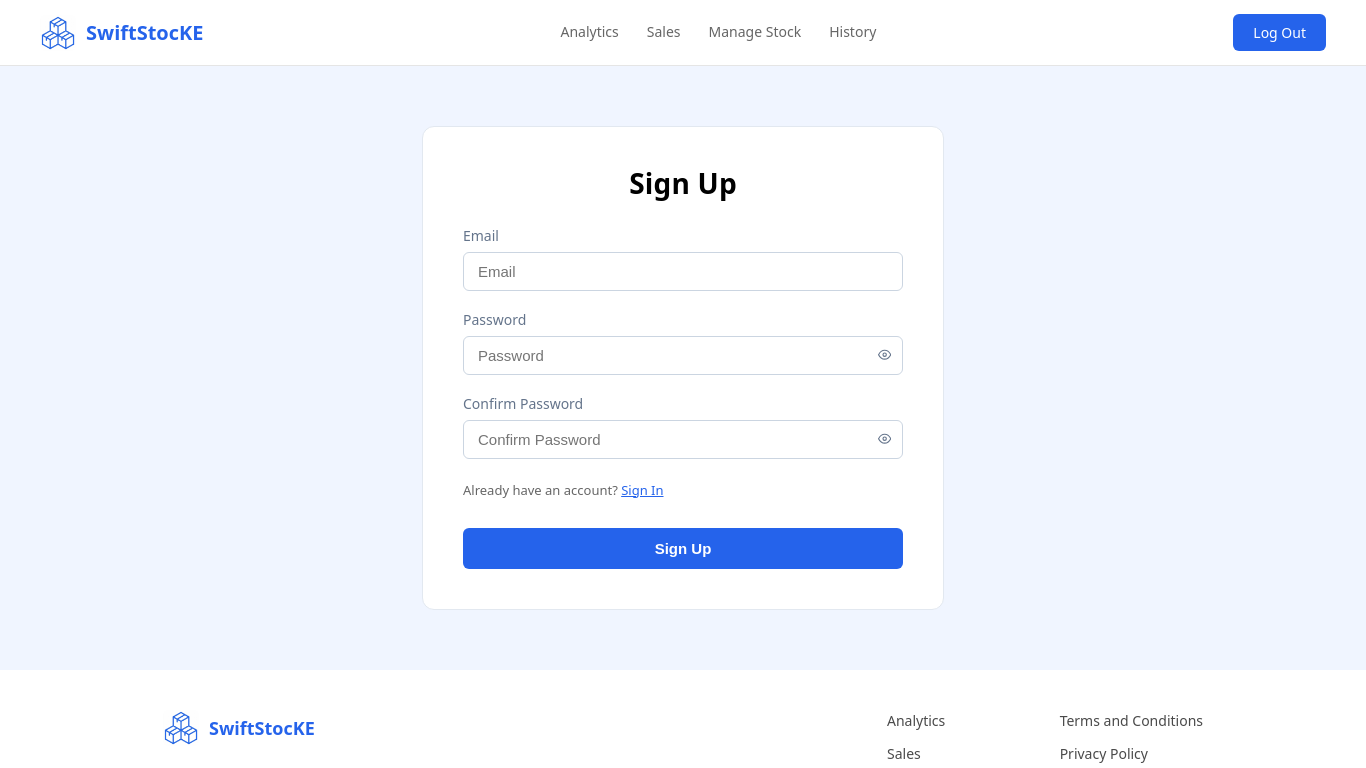
Test case: Sign Up Page › handles form submission successfully and navigates to VerifyOTP
Type "test@example.com" into the field with test id "email-input".
click(683, 271); type("test@example.com")  # box [463, 252, 903, 291]
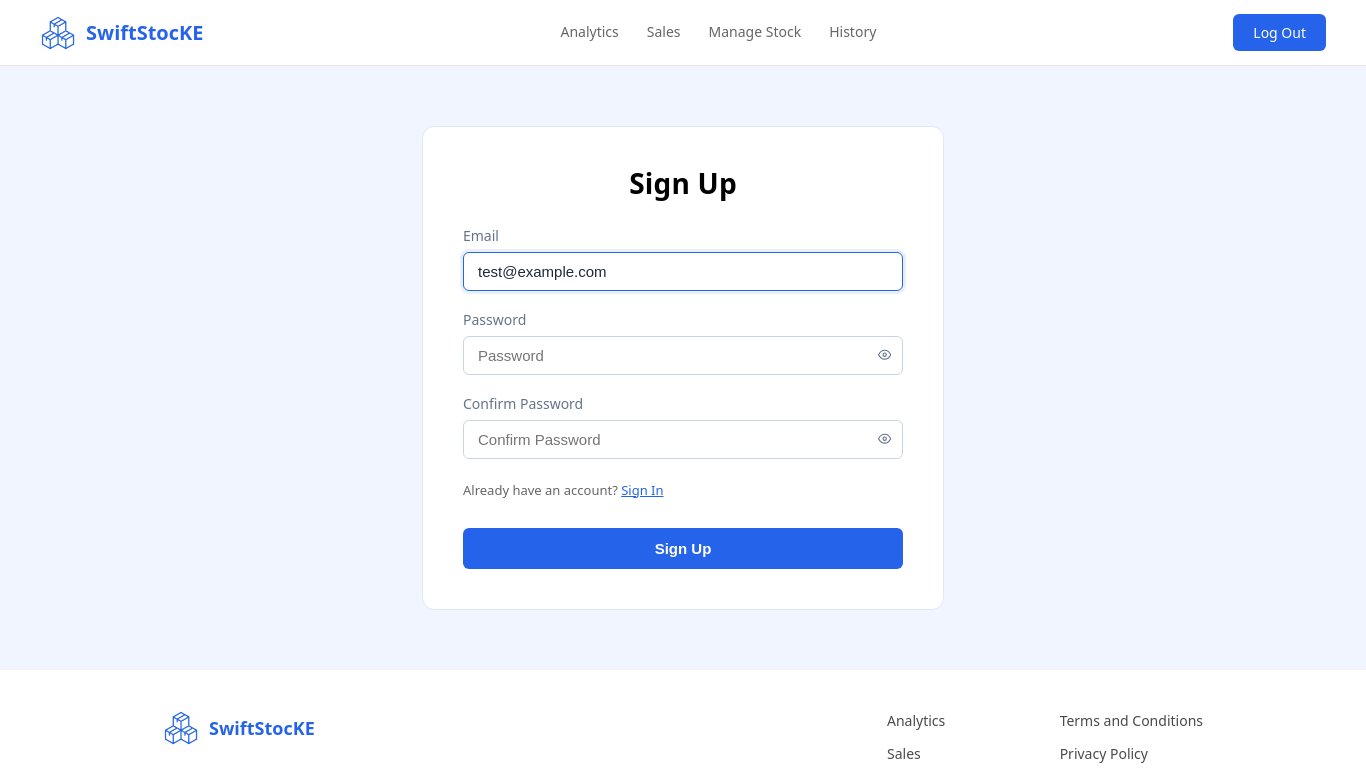
Type "password123" into the password field with test id "password-input".
click(683, 355); type("password123")  # box [463, 336, 903, 375]
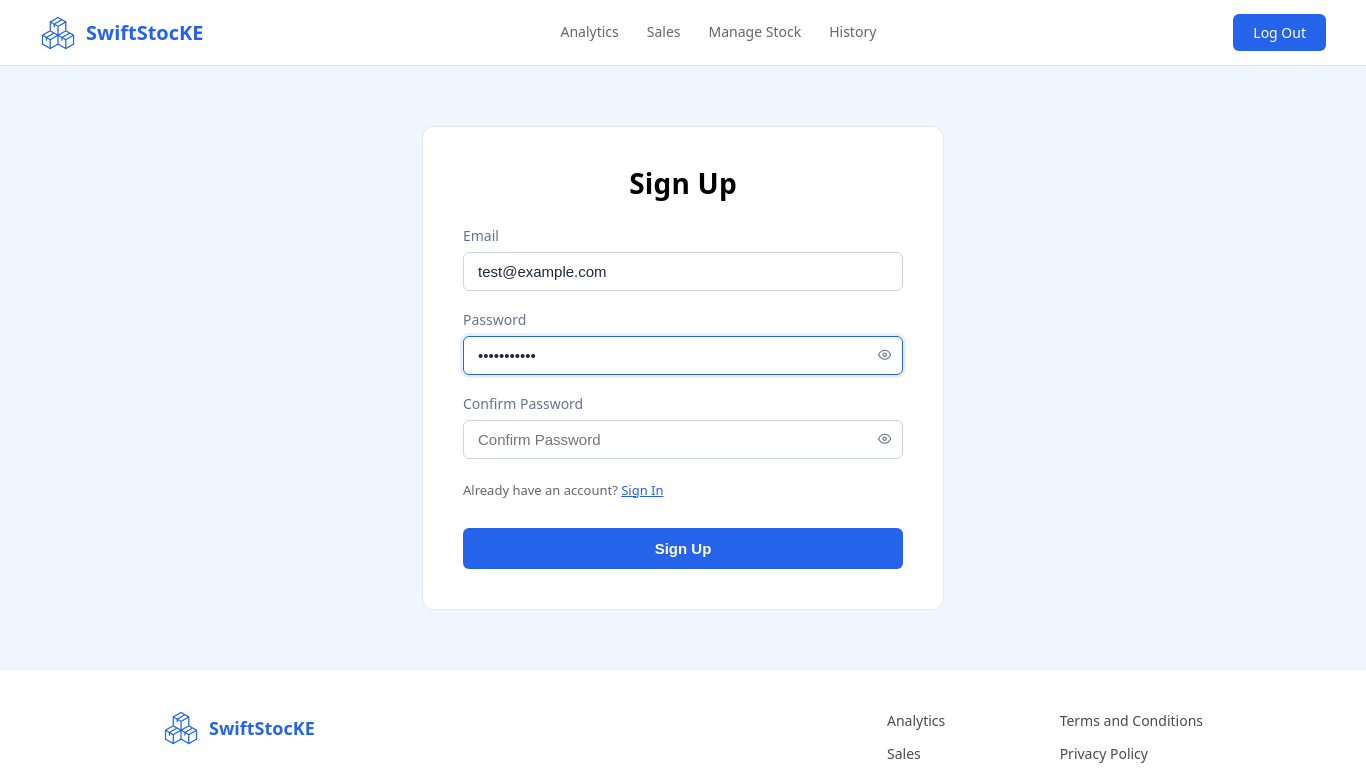
Type "password123" into the password field with test id "confirm-password-input".
click(683, 439); type("password123")  # box [463, 420, 903, 459]
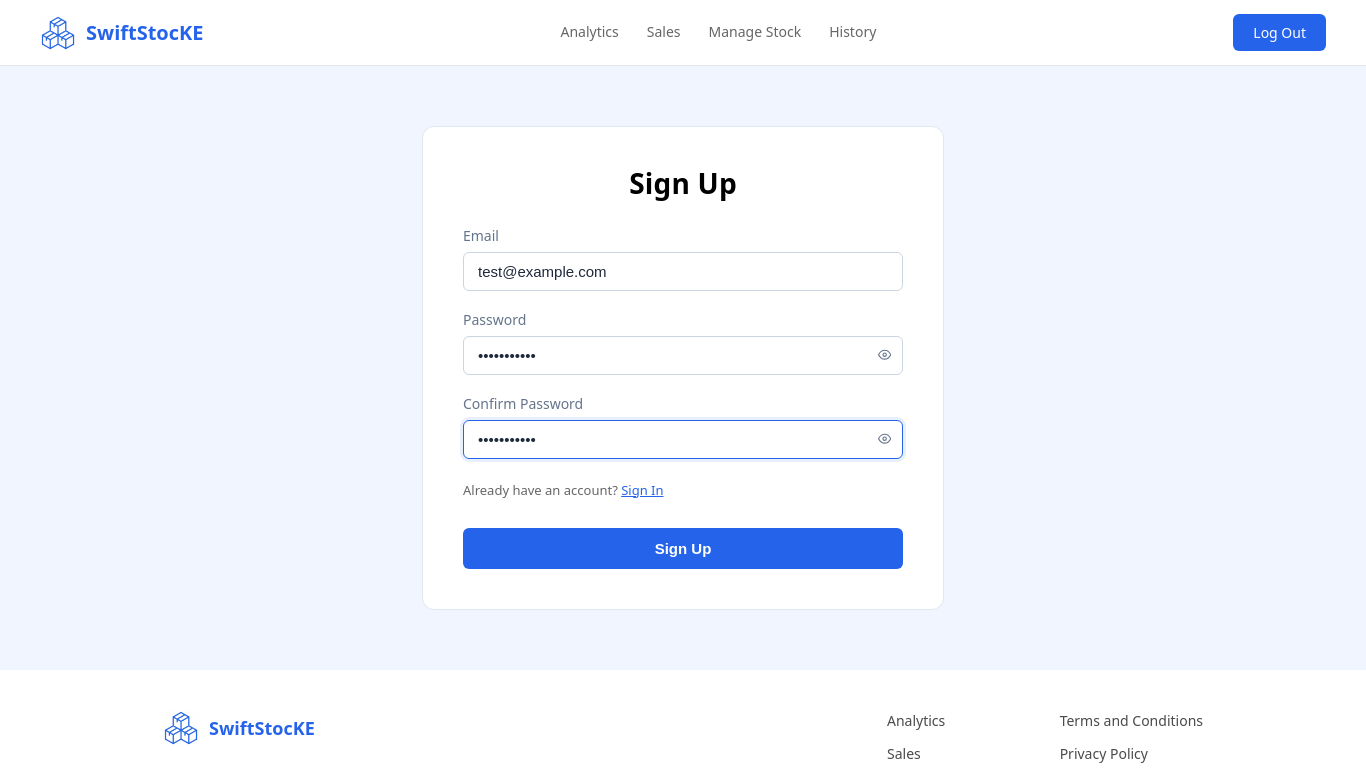
Click the button with test id "signup-btn".
click(683, 549)  # box [463, 528, 903, 569]
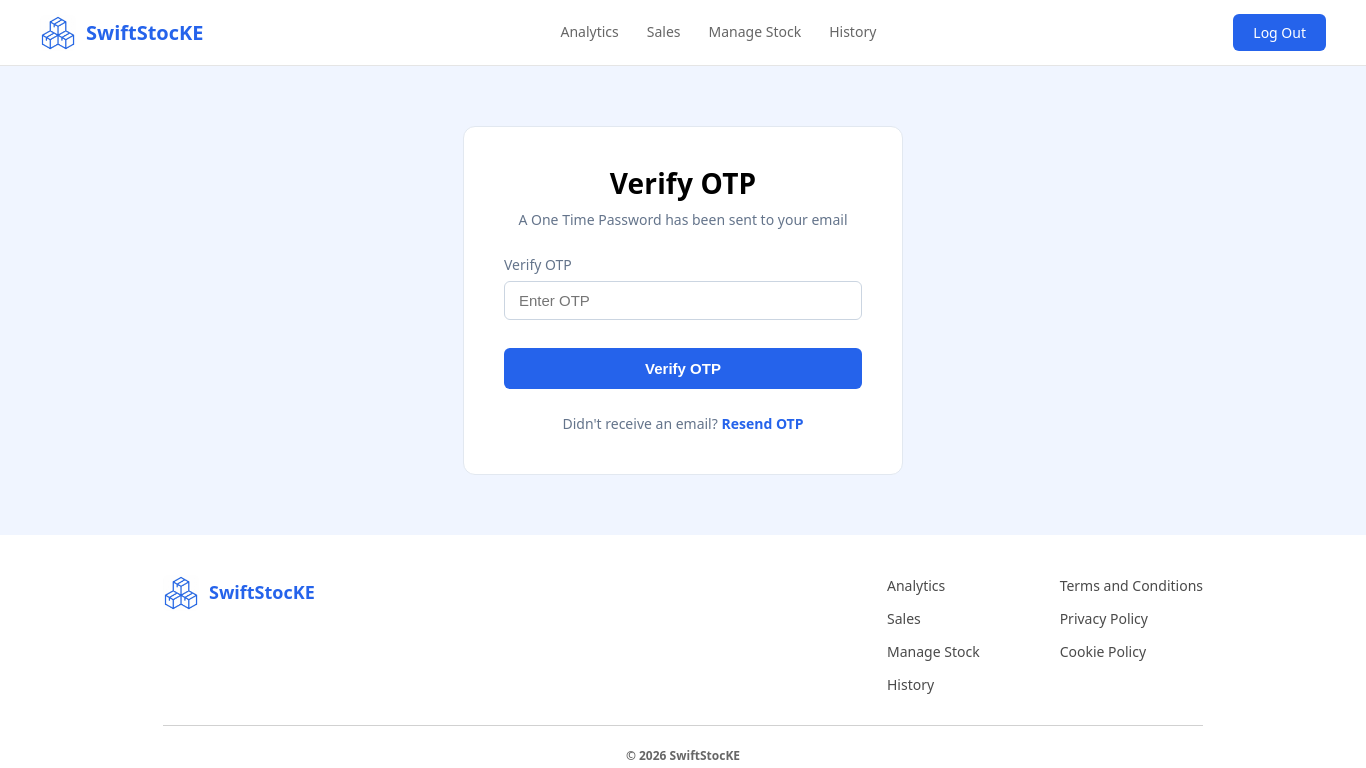
Check: the heading with test id "verifyotp-title" reads "Verify OTP", box [610, 164, 756, 202]
